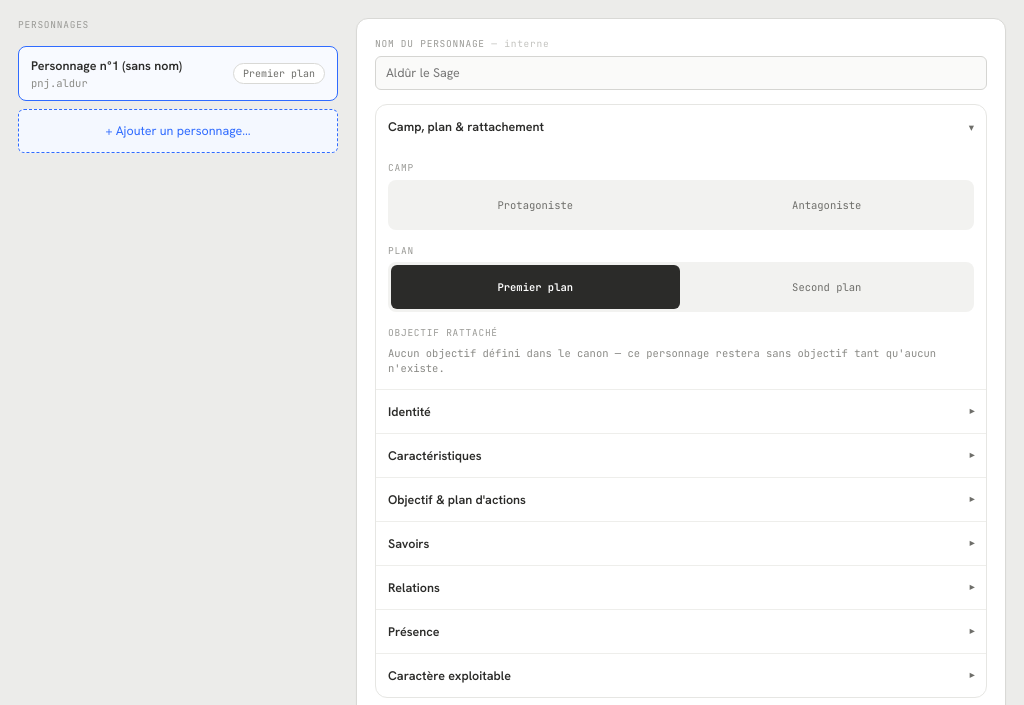
FichePersonnage - bloc Caractere › bloc absent : seule la CTA, aucune ecriture au montage
What coordinates should you click on to do the following:
click the button "Caractère exploitable ▾"
I would click on:
 (449, 675)
Its box is left=376, top=653, right=986, bottom=697.
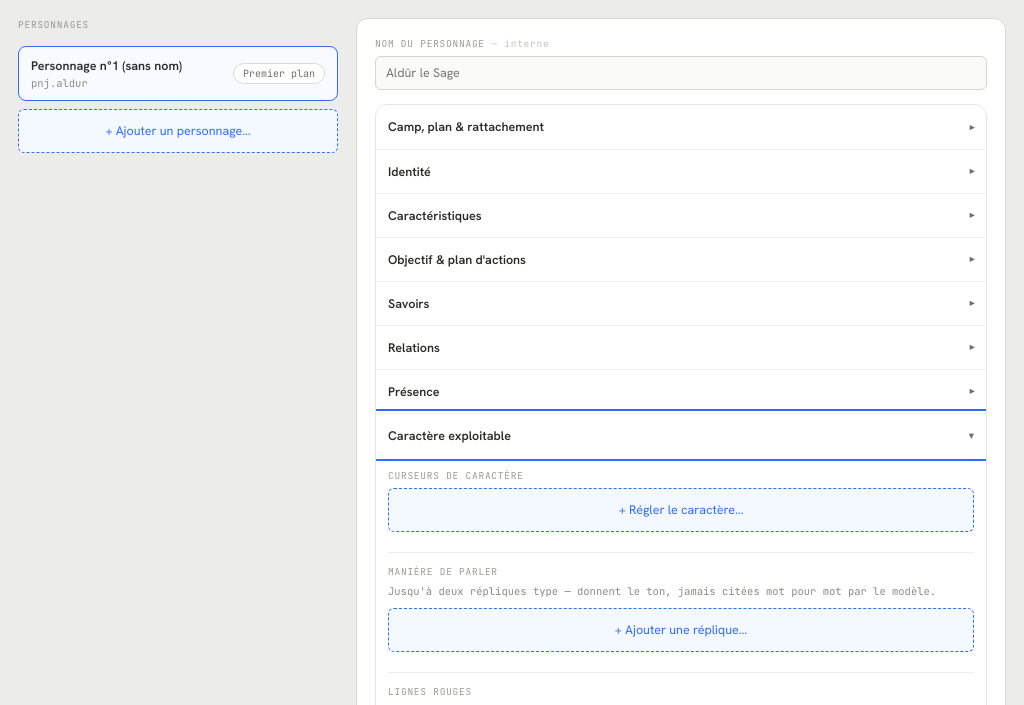
Expected: the number of buttons "+ Régler le caractère…" is 1, left=388, top=488, right=974, bottom=532
